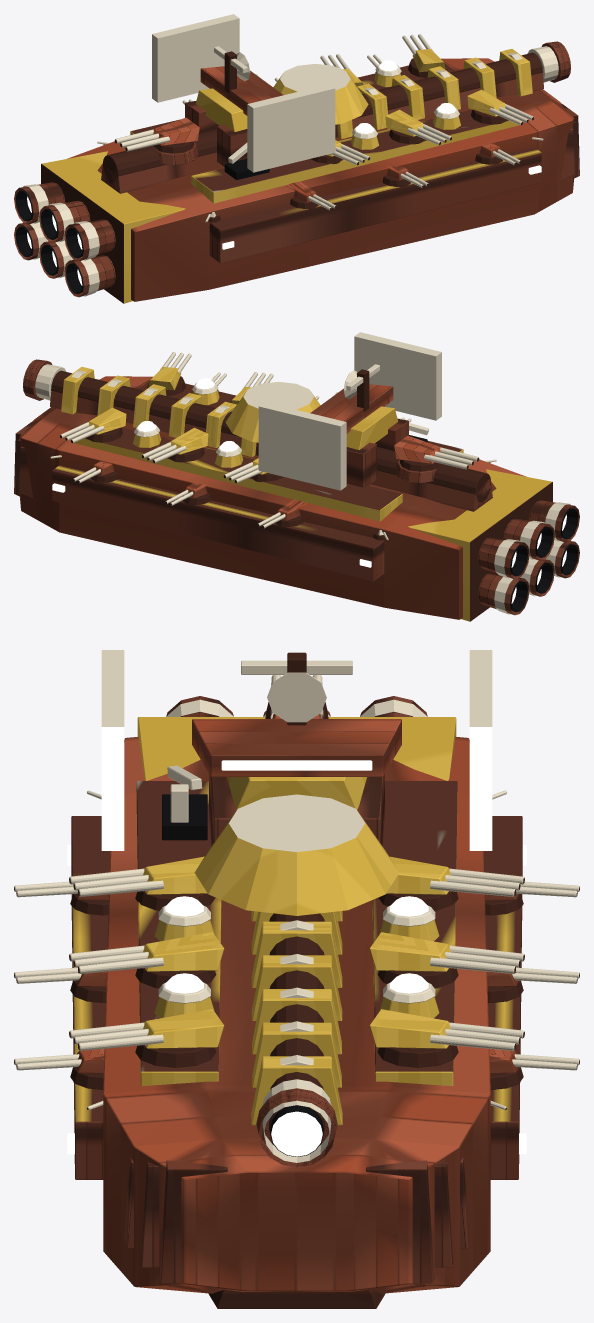
The model's file is battleship.glb.
The picture shows the model from 3 angles, top to bottom: view 1: azimuth 30°, elevation 25°; view 2: azimuth 150°, elevation 25°; view 3: azimuth 270°, elevation 25°; orthographic projection. The views are drawn at different scales.
Visible parts, largest first — view 1: faction-gabagoonians_battleship; view 2: faction-gabagoonians_battleship; view 3: faction-gabagoonians_battleship.
Boxes of the visible parts, x1,y1,x2,y2 form: faction-gabagoonians_battleship: (14,14,579,303); faction-gabagoonians_battleship: (14,332,579,621); faction-gabagoonians_battleship: (14,650,579,1308).
Bounding box in the file's own units: 60 × 21.28 × 29.83.
Materials: 1 (1 with a texture image).
